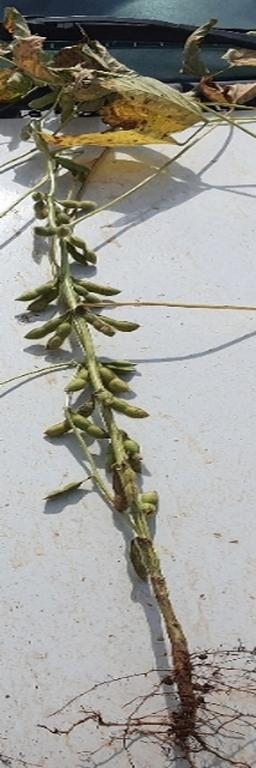pod: (102, 393, 152, 421), (73, 413, 113, 441), (20, 317, 59, 340), (100, 364, 129, 392), (63, 367, 89, 393), (46, 323, 73, 347), (59, 199, 99, 213), (57, 158, 90, 174)
soy: (1, 146, 223, 728)
